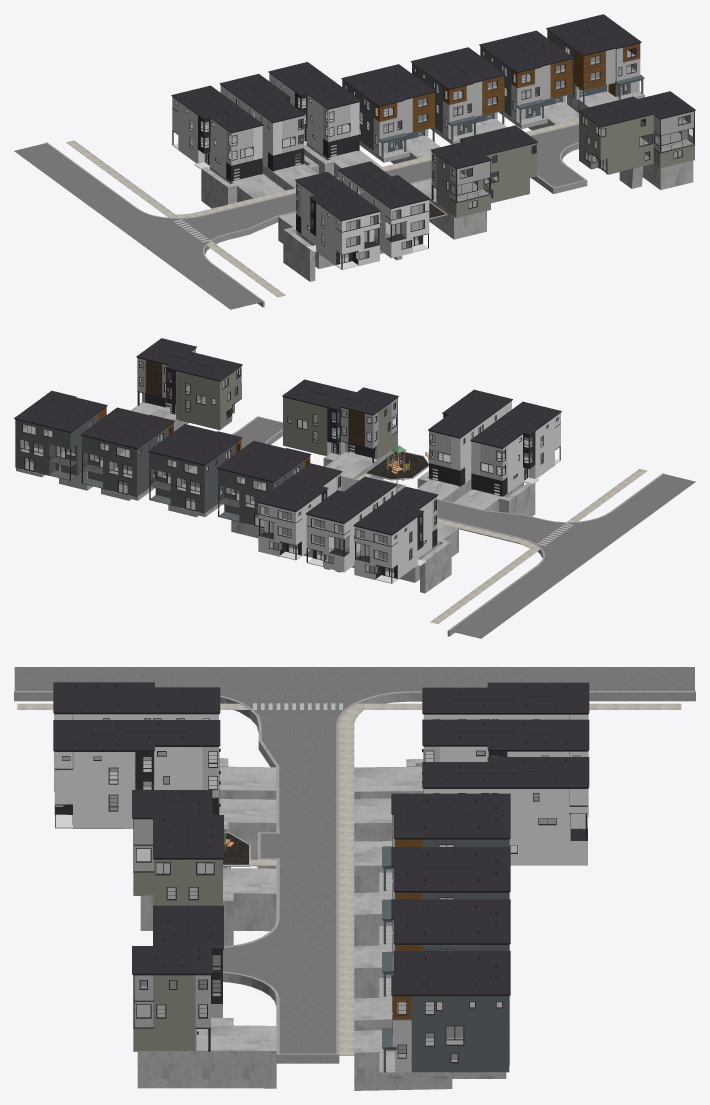
Rendered from house_.glb.
3 views of the same model, one above another, from view 1: azimuth 30°, elevation 25°; view 2: azimuth 150°, elevation 25°; view 3: azimuth 270°, elevation 25° (orthographic). The views are drawn at different scales.
Parts seen in each view (by area): view 1: Line001, Rectangle009, 1_low.007, 1_low.008, 3_low.001, 3_low.004, 2_low.003, 2_low.005, 2_low.004, 2_low.006, 3_low, 3_low.003 (+8 smaller); view 2: Line001, 1_low.008, Rectangle009, 1_low.007, 3_low.004, 3_low.001, 2_low.005, 2_low.006, 2_low.004, 3_low, 3_low.002, 2_low.003 (+11 smaller); view 3: Line001, Rectangle009, 3_low.003, 2_low.004, 1_low.007, 3_low, 1_low.008, Rectangle2106771930, Plane, 2_low.003, 3_low.002, 2_low.005 (+7 smaller).
Boxes of the visible parts, x1=… form: Line001: x1=14, y1=124, x2=583, y2=309; Rectangle009: x1=201, y1=90, x2=693, y2=281; 1_low.007: x1=578, y1=91, x2=695, y2=174; 1_low.008: x1=430, y1=125, x2=537, y2=218; 3_low.001: x1=171, y1=85, x2=263, y2=182; 3_low.004: x1=295, y1=171, x2=380, y2=269; 2_low.003: x1=341, y1=64, x2=435, y2=157; 2_low.005: x1=411, y1=47, x2=505, y2=140; 2_low.004: x1=546, y1=14, x2=644, y2=105; 2_low.006: x1=479, y1=30, x2=573, y2=123; 3_low: x1=268, y1=62, x2=360, y2=158; 3_low.003: x1=337, y1=161, x2=429, y2=258; Line001: x1=234, y1=417, x2=695, y2=638; 1_low.008: x1=282, y1=379, x2=398, y2=463; Rectangle009: x1=59, y1=400, x2=535, y2=593; 1_low.007: x1=136, y1=338, x2=242, y2=429; 3_low.004: x1=470, y1=401, x2=561, y2=496; 3_low.001: x1=353, y1=486, x2=438, y2=583; 2_low.005: x1=148, y1=424, x2=242, y2=513; 2_low.006: x1=80, y1=407, x2=174, y2=496; 2_low.004: x1=14, y1=390, x2=107, y2=480; 3_low: x1=257, y1=463, x2=342, y2=560; 3_low.002: x1=305, y1=476, x2=397, y2=572; 2_low.003: x1=217, y1=440, x2=311, y2=528; Line001: x1=14, y1=667, x2=694, y2=1053; Rectangle009: x1=137, y1=758, x2=452, y2=1090; 3_low.003: x1=53, y1=720, x2=220, y2=828; 2_low.004: x1=382, y1=950, x2=510, y2=1072; 1_low.007: x1=132, y1=905, x2=223, y2=1051; 3_low: x1=422, y1=757, x2=589, y2=865; 1_low.008: x1=132, y1=790, x2=223, y2=905; Rectangle2106771930: x1=17, y1=703, x2=681, y2=1055; Plane: x1=14, y1=691, x2=695, y2=1063; 2_low.003: x1=382, y1=793, x2=510, y2=890; 3_low.002: x1=422, y1=719, x2=589, y2=793; 2_low.005: x1=382, y1=847, x2=510, y2=944.
Size of what is drawn, in the model's own units: 98.31 by 15.12 by 69.68.
11 materials, 9 textured.
